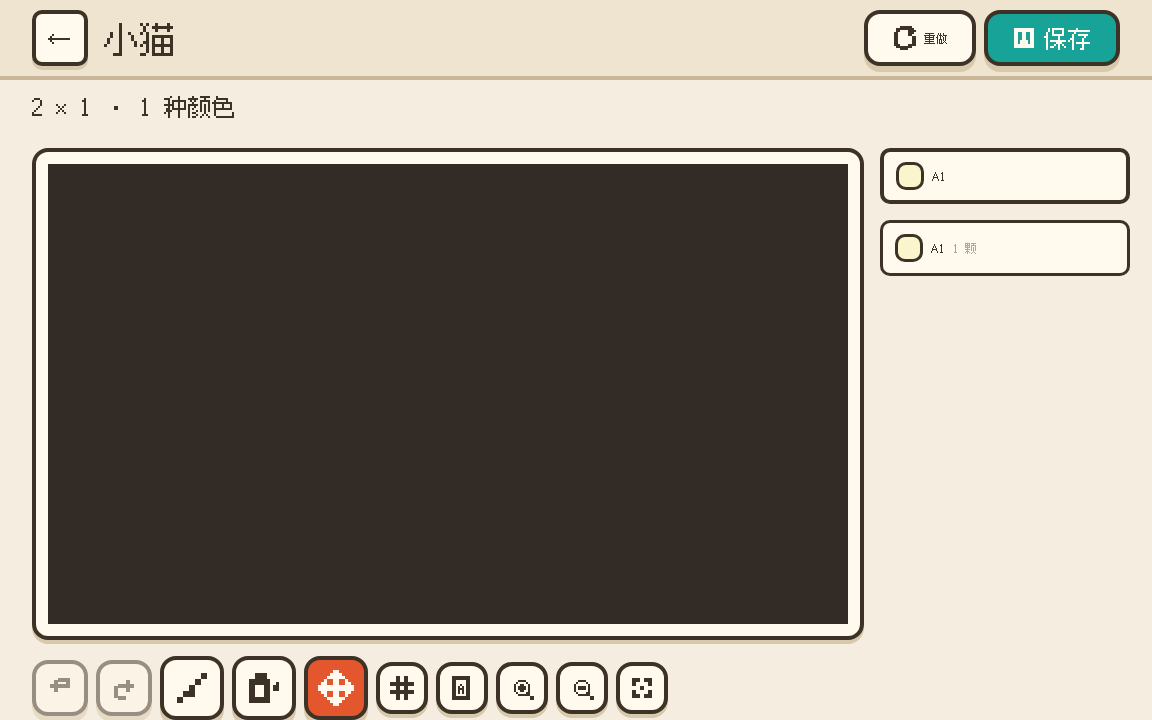
it: B1-8：/edit/a → /edit/b 重载 › 有未保存改动时先拦下，确认后才切到新 id
Click the button with test id "tool-brush" at (192,688), box [160,656,224,719]
(page scrolled)
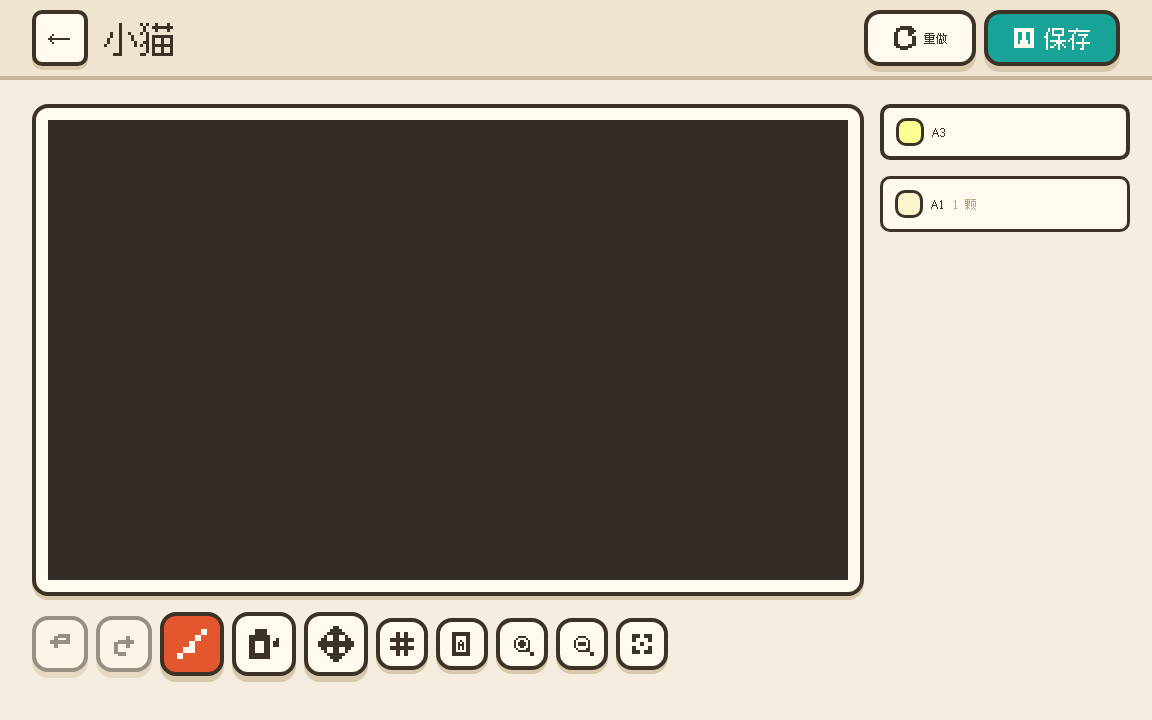
Press the mouse on the drawing with test id "editor-canvas" at (448,420), box [48,120,848,719]
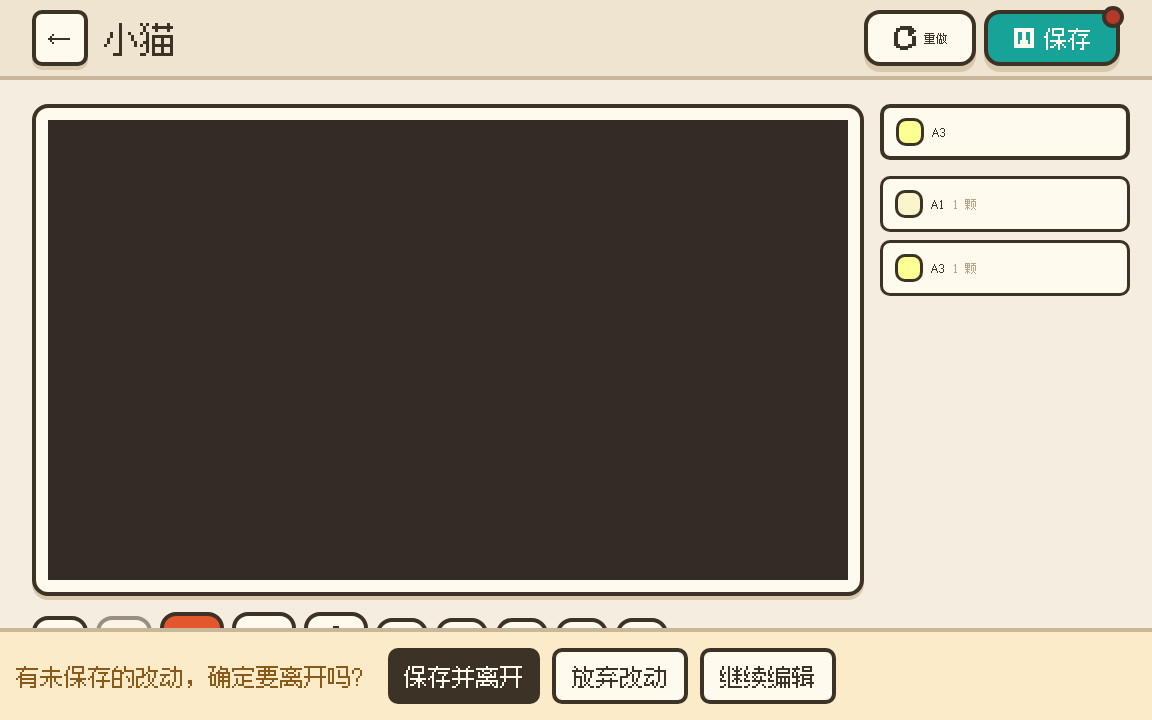
Check: the element with test id "leave-bar" is shown, box [0,628,1151,719]
Click the button with test id "leave-save" at (464,676), box [388,648,540,704]
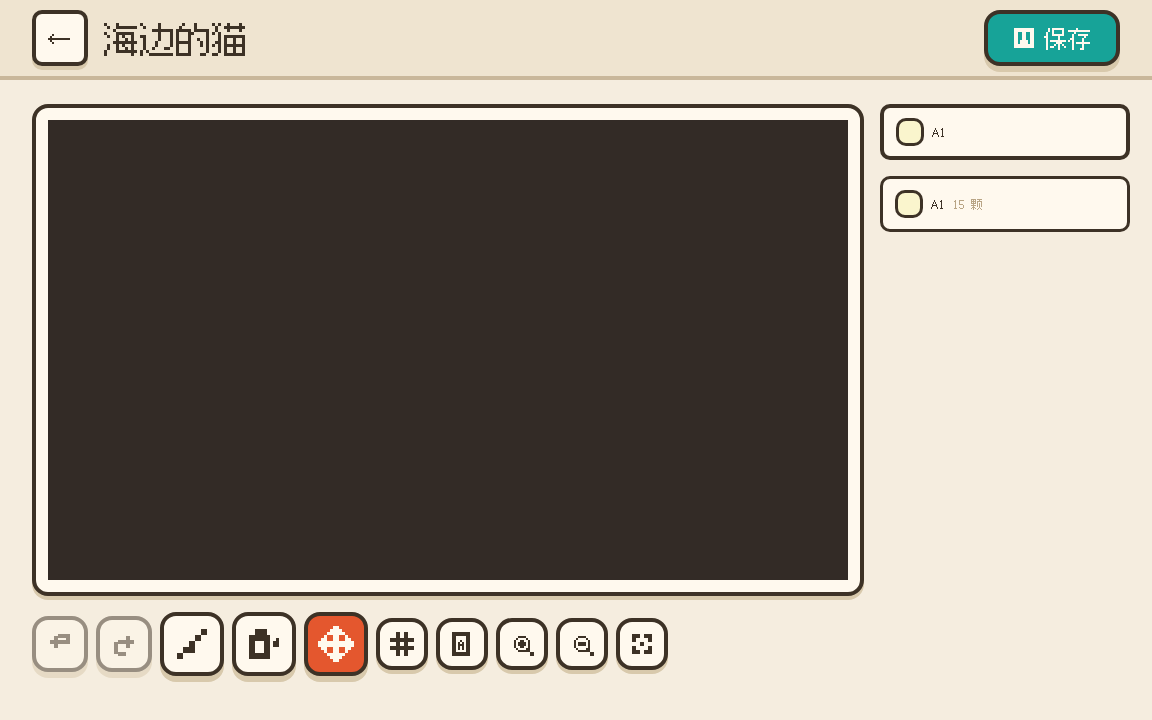
Check: the text "海边的猫" is shown, box [104,14,248,62]
